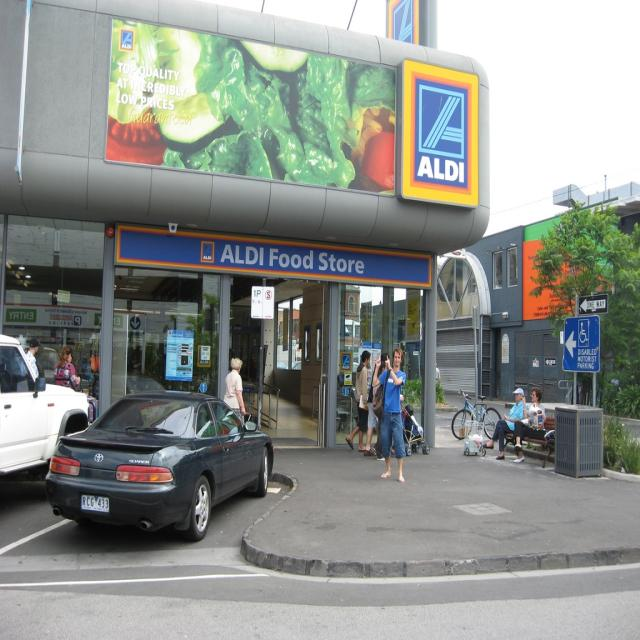aldi: (404, 60, 479, 206), (389, 2, 421, 44), (119, 30, 135, 53), (201, 242, 215, 263)
